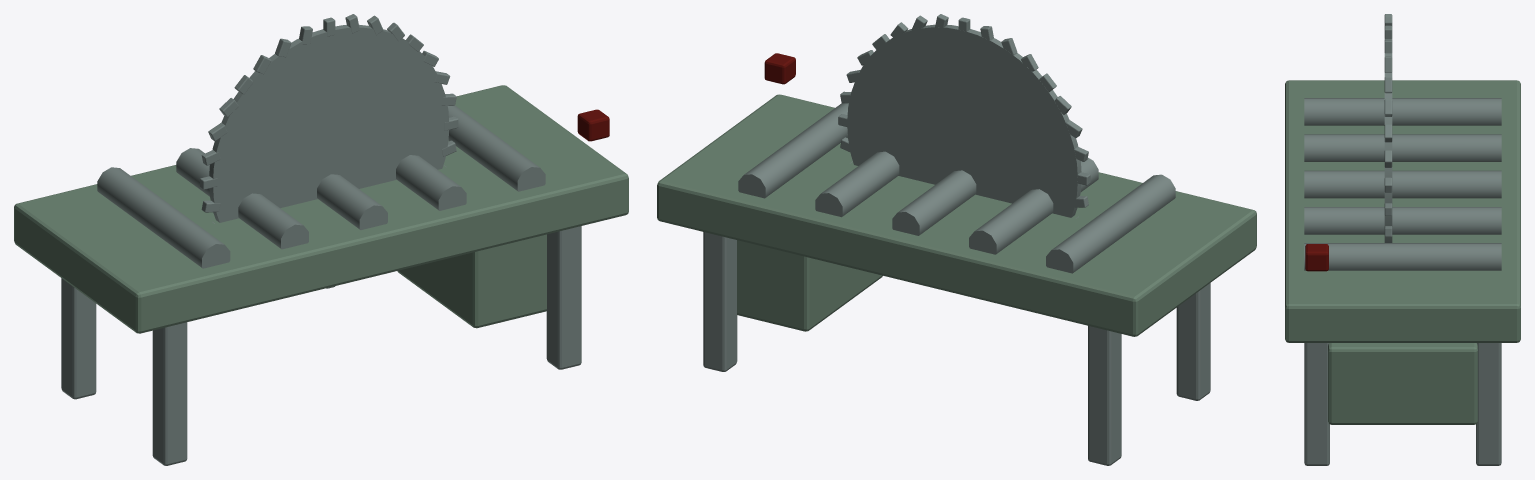
File: forest_saw.glb
3 renders of one model, left to right at view 1: azimuth 30°, elevation 25°; view 2: azimuth 150°, elevation 25°; view 3: azimuth 270°, elevation 25°, orthographic. The views are drawn at different scales.
Parts seen in each view (by area): view 1: forest_saw; view 2: forest_saw; view 3: forest_saw.
Boxes of the visible parts, x1,y1,x2,y2 form: forest_saw: (14, 14, 628, 465); forest_saw: (657, 14, 1256, 465); forest_saw: (1285, 14, 1520, 465).
Bounding box in the file's own units: 2.5 × 1.77 × 1.1.
